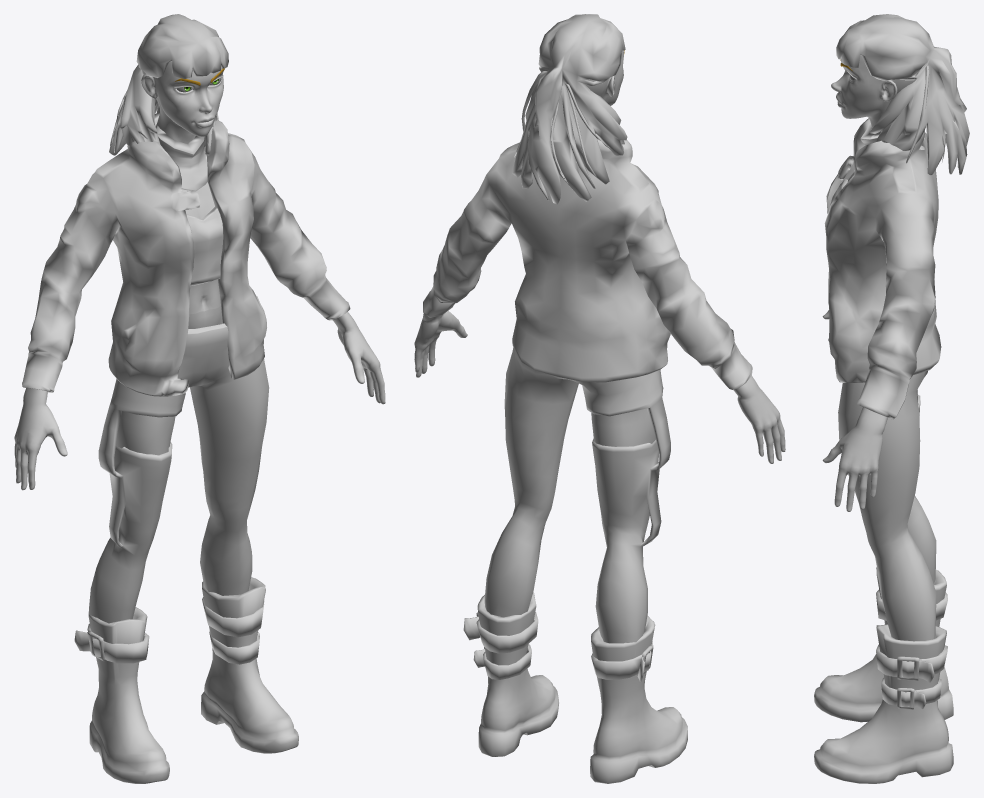
Rendered from W Character 20.fbx.
3 views of the same model, side by side, from view 1: azimuth 30°, elevation 25°; view 2: azimuth 150°, elevation 25°; view 3: azimuth 270°, elevation 25° (orthographic).
Parts seen in each view (by area): view 1: Wolf3D_Outfit_Top.009, Wolf3D_Outfit_Bottom.011, Wolf3D_Outfit_Footwear.010, Wolf3D_Hair.006, body.001, head, legs.001, body.002; view 2: Wolf3D_Outfit_Top.009, Wolf3D_Outfit_Bottom.011, Wolf3D_Outfit_Footwear.010, Wolf3D_Hair.006, body.001, legs.001, head; view 3: Wolf3D_Outfit_Top.009, Wolf3D_Outfit_Footwear.010, Wolf3D_Outfit_Bottom.011, Wolf3D_Hair.006, body.001, head.
Part boxes in pixels (left/top/right/bottom): Wolf3D_Outfit_Top.009: left=22, top=112, right=350, bottom=396; Wolf3D_Outfit_Bottom.011: left=89, top=323, right=269, bottom=628; Wolf3D_Outfit_Footwear.010: left=74, top=577, right=298, bottom=783; Wolf3D_Hair.006: left=109, top=14, right=228, bottom=155; body.001: left=14, top=312, right=385, bottom=490; head: left=141, top=61, right=224, bottom=144; legs.001: left=116, top=411, right=175, bottom=455; body.002: left=182, top=156, right=220, bottom=314; Wolf3D_Outfit_Top.009: left=423, top=134, right=752, bottom=389; Wolf3D_Outfit_Bottom.011: left=484, top=347, right=670, bottom=655; Wolf3D_Outfit_Footwear.010: left=463, top=592, right=687, bottom=783; Wolf3D_Hair.006: left=512, top=14, right=627, bottom=204; body.001: left=414, top=310, right=785, bottom=463; legs.001: left=591, top=408, right=655, bottom=446; head: left=541, top=50, right=624, bottom=163; Wolf3D_Outfit_Top.009: left=824, top=118, right=941, bottom=419; Wolf3D_Outfit_Footwear.010: left=814, top=567, right=953, bottom=783; Wolf3D_Outfit_Bottom.011: left=838, top=371, right=936, bottom=641; Wolf3D_Hair.006: left=836, top=14, right=969, bottom=175; body.001: left=822, top=309, right=887, bottom=511; head: left=831, top=55, right=924, bottom=149.
Bounding box in the file's own units: 96.47 × 186 × 36.49.
